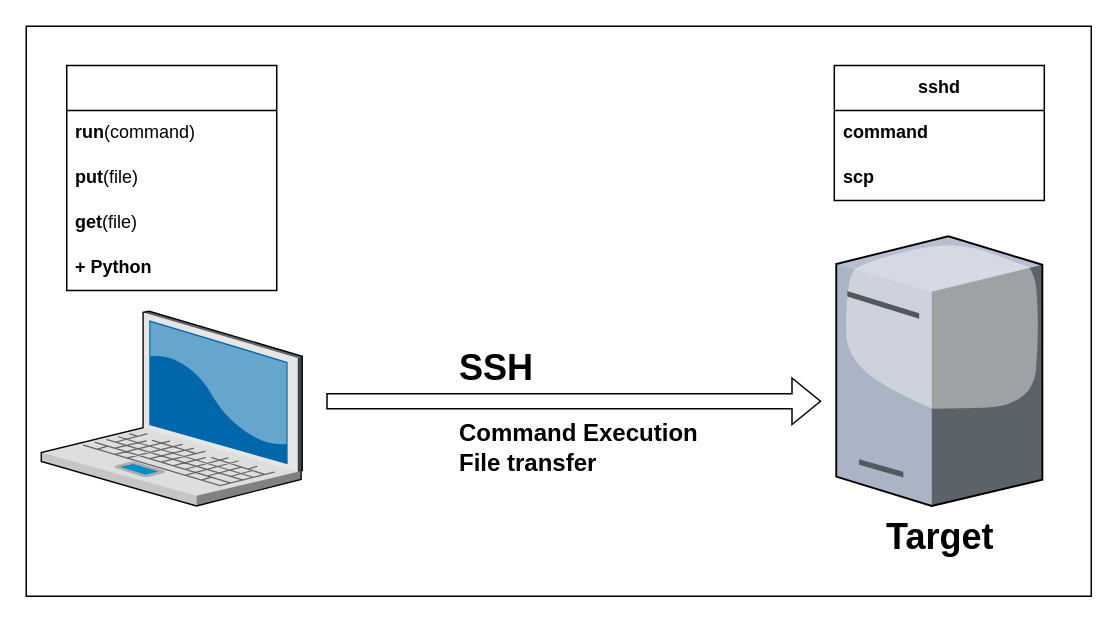
This 1118x623 diagram has some shape labels left out. The box of each missing label's shape, as (x1, y1, x2, y2) in pixels:
cijoe: (65, 64, 277, 291)
Initiator: (40, 310, 302, 505)
